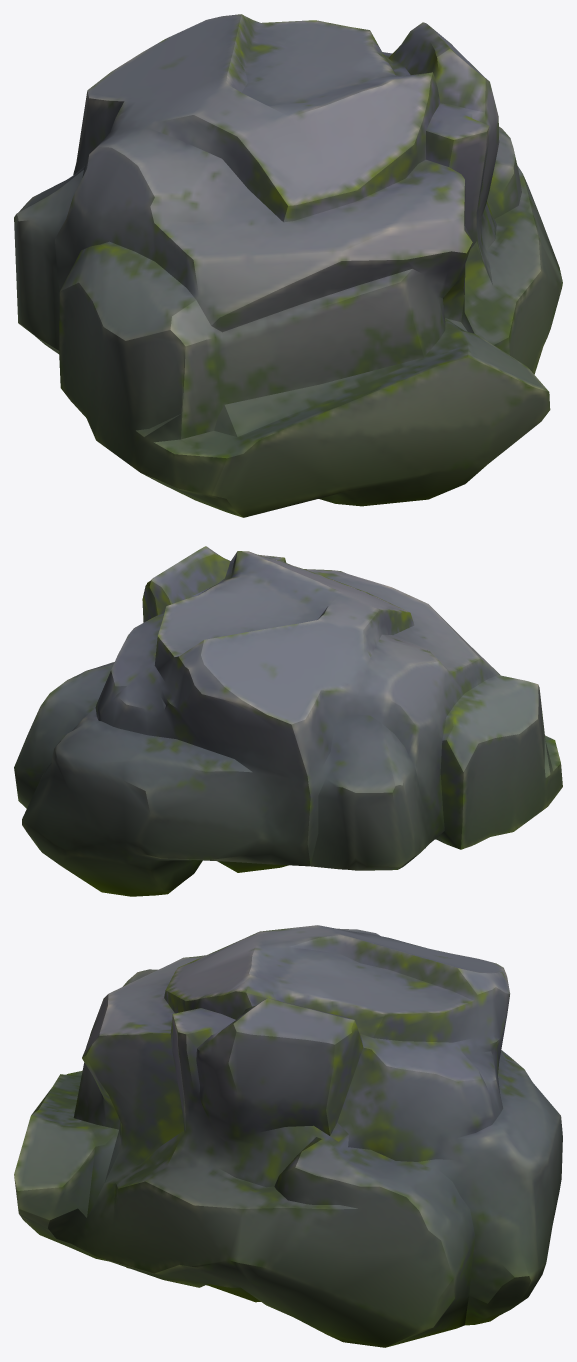
File: nature_rock_big_2.glb
3 views of the same model, one above another, from view 1: azimuth 30°, elevation 25°; view 2: azimuth 150°, elevation 25°; view 3: azimuth 270°, elevation 25° (orthographic). The views are drawn at different scales.
Visible parts, largest first — view 1: nature_rock_big_2; view 2: nature_rock_big_2; view 3: nature_rock_big_2.
Boxes of the visible parts, bbox=[...] form: nature_rock_big_2: bbox=[14, 14, 562, 517]; nature_rock_big_2: bbox=[14, 546, 562, 896]; nature_rock_big_2: bbox=[14, 925, 562, 1347].
Size of the model in its own units: 577 by 381 by 582.
1 material, 1 textured.
